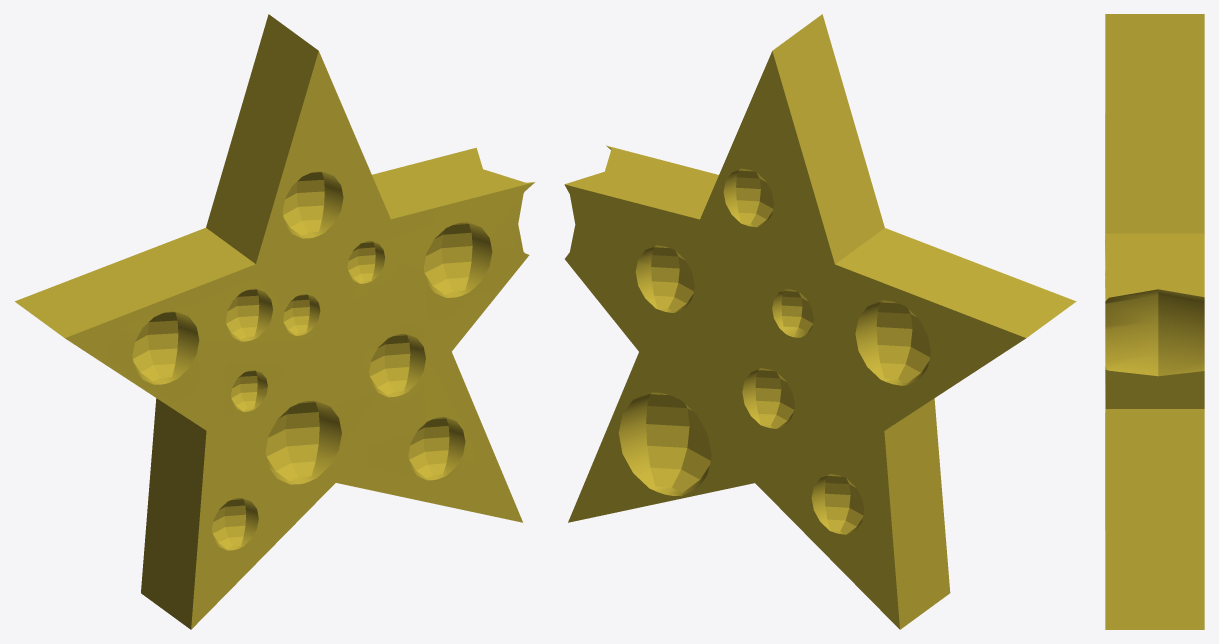
File: Star.fbx
The picture shows the model from 3 angles, left to right: view 1: azimuth 30°, elevation 25°; view 2: azimuth 150°, elevation 25°; view 3: azimuth 270°, elevation 25°; orthographic projection.
Parts seen in each view (by area): view 1: pCylinder3; view 2: pCylinder3; view 3: pCylinder3.
Boxes of the visible parts, left/top/right/bottom form: pCylinder3: left=15, top=14, right=534, bottom=629; pCylinder3: left=564, top=14, right=1076, bottom=629; pCylinder3: left=1105, top=14, right=1204, bottom=629.
Size of the model in its own units: 3.53 by 3.93 by 0.6526.
